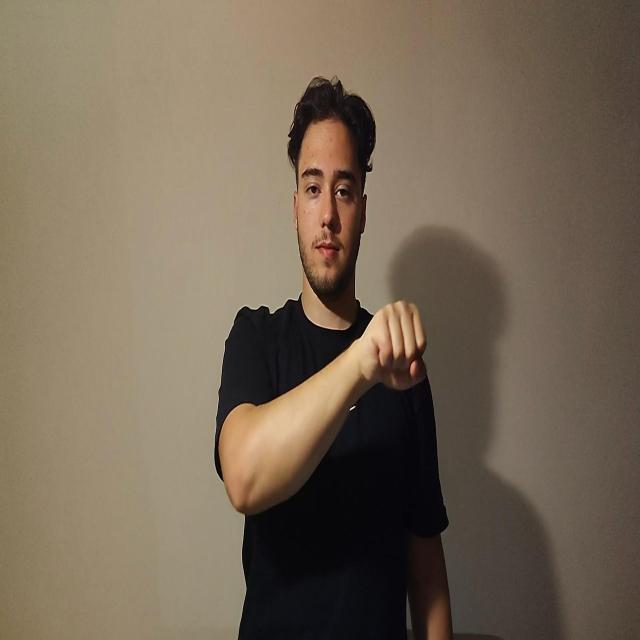yes: (358, 298, 428, 392)
